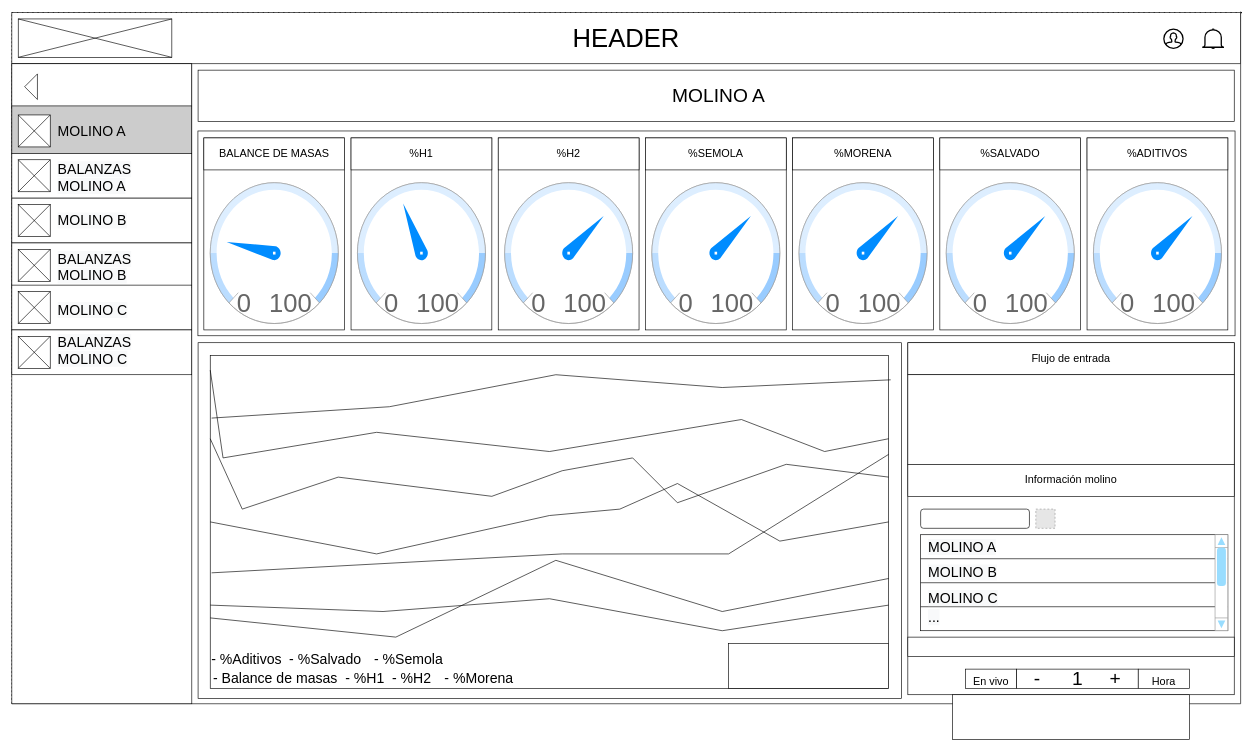
The diagram is 1254 pixels wide and 751 high, and some of its shapes have lost their labels. Grey dashed boxes stand in for pictures. Each missing label, with the centre of its shape:
"8.88 t/h" belongs at point (1070, 419).
"BUSCAR . . ." belongs at point (974, 518).
"FILTRO" belongs at point (1070, 646).
"imagen" belongs at point (95, 37).
"Nota: Tiempo real o Histórico" belongs at point (808, 665).
"Nota: Validar si el filtro se hace al lado o en la grafica" belongs at point (1070, 717).
